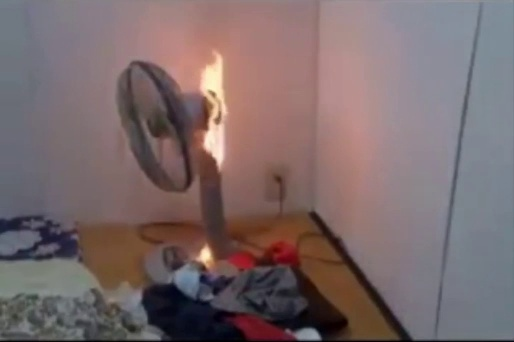fire: (198, 54, 237, 171)
